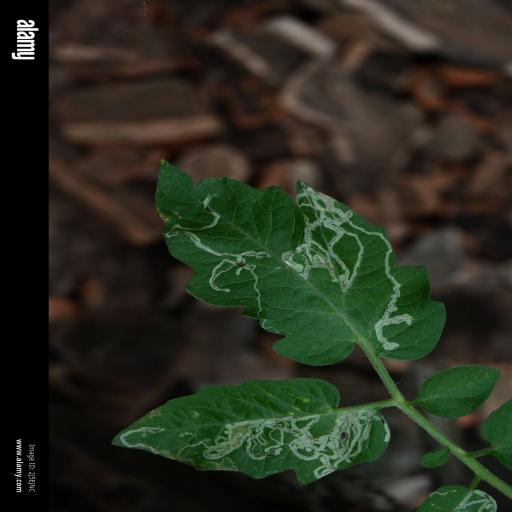Healthy: (412, 362, 504, 420)
Leaf Miner: (152, 154, 449, 366), (105, 376, 395, 486)
